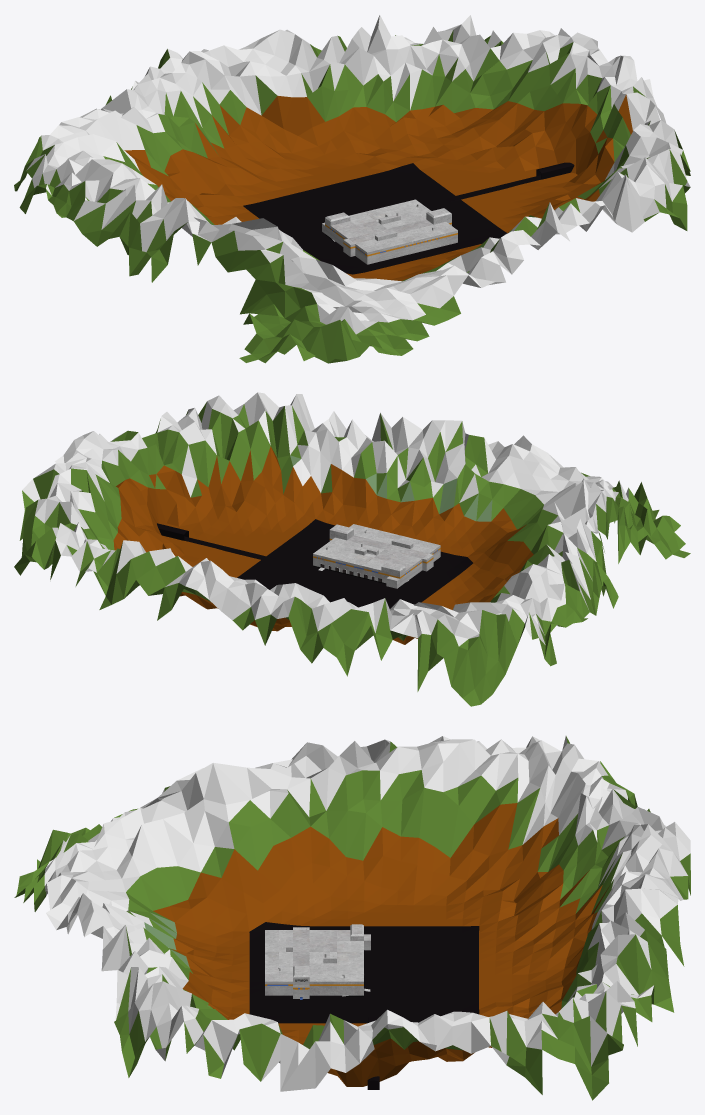
File: amazonmapV3.glb
3 views of the same model, one above another, from view 1: azimuth 30°, elevation 25°; view 2: azimuth 150°, elevation 25°; view 3: azimuth 270°, elevation 25° (orthographic). The views are drawn at different scales.
Visible parts, largest first — view 1: Plane, ceiling, warehouse; view 2: Plane, ceiling, warehouse; view 3: Plane, ceiling, warehouse.
Part boxes in pixels (x1,y1,x2,y2): Plane: (14, 15, 690, 363); ceiling: (325, 199, 457, 252); warehouse: (322, 212, 457, 264); Plane: (14, 392, 690, 706); ceiling: (313, 524, 440, 574); warehouse: (313, 536, 440, 588); Plane: (14, 736, 690, 1100); ceiling: (265, 924, 363, 984); warehouse: (265, 927, 370, 999).
Bounding box in the file's own units: 21.76 × 3.65 × 19.45.
11 materials, 4 textured.
